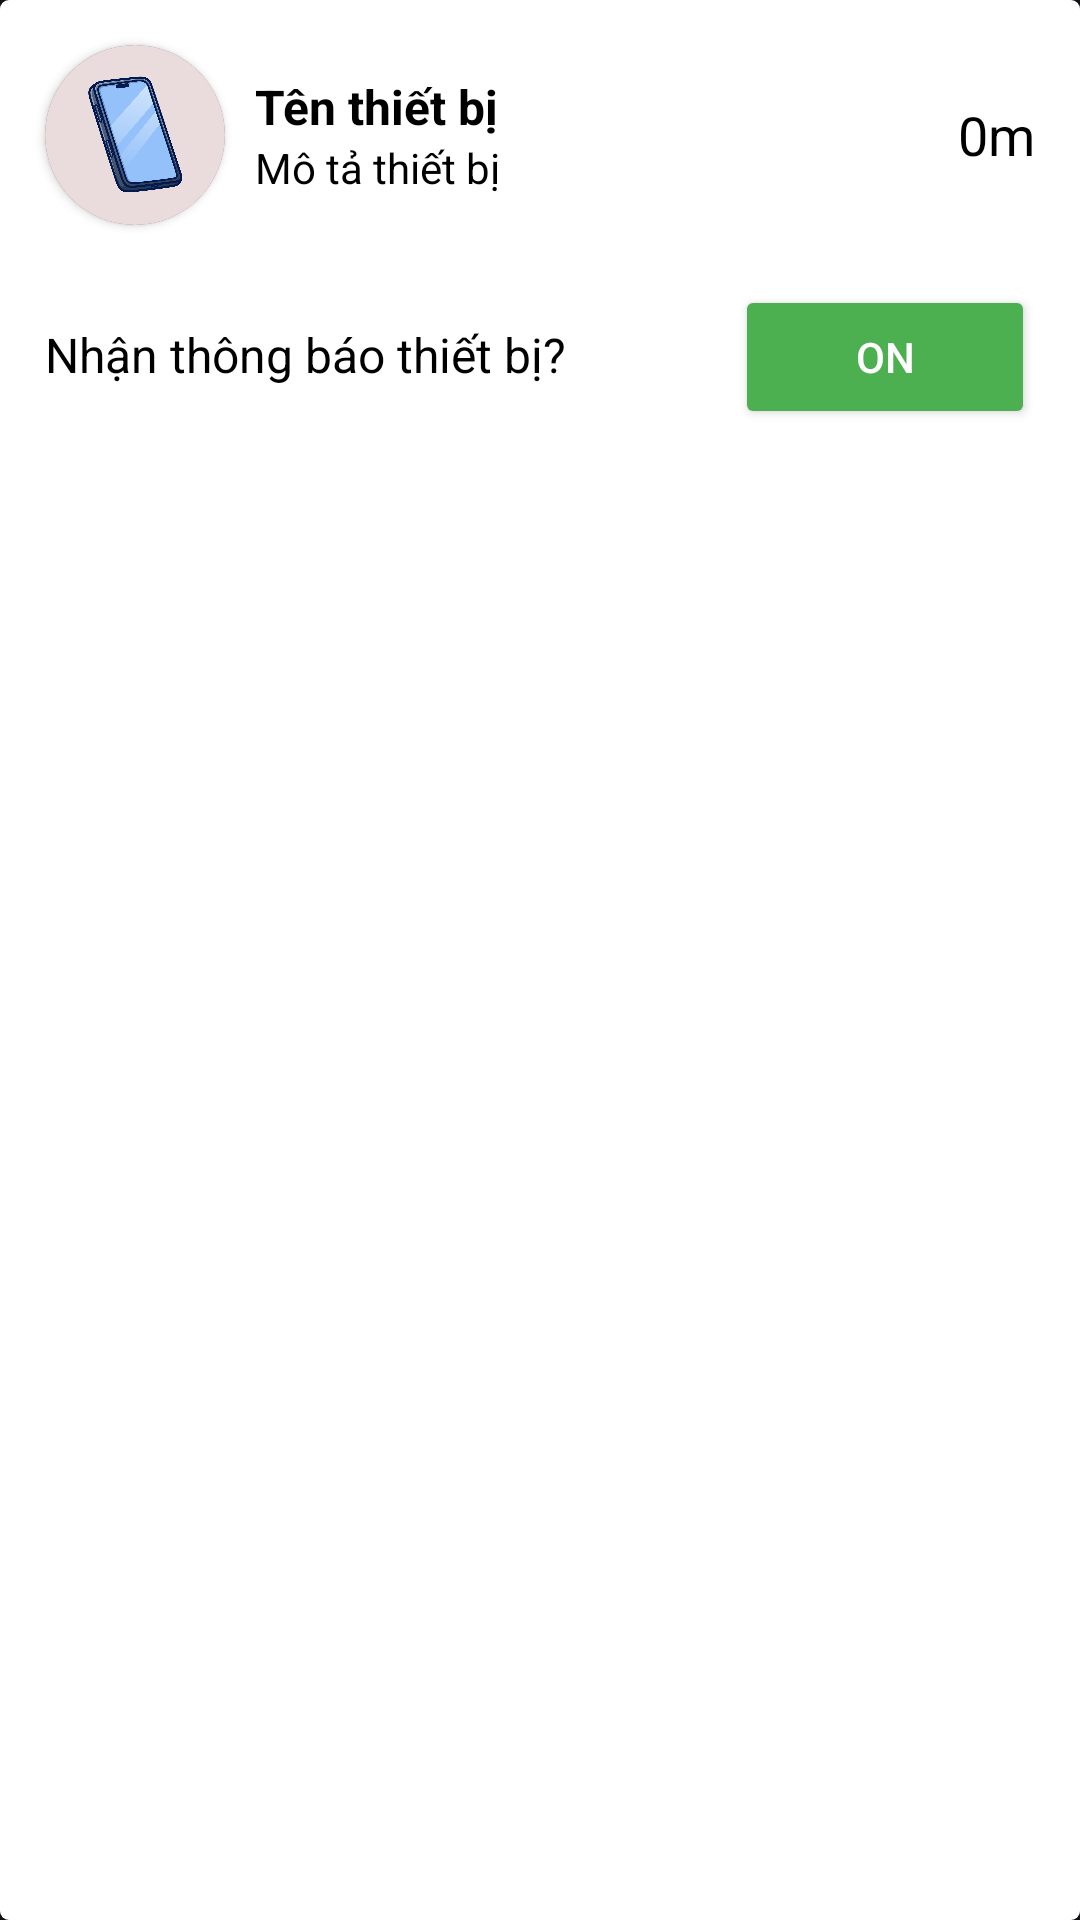

Icons on this 1080px×1920px Android screen, each with its box as region(x1, y1, x2, y2):
phone: region(45, 45, 225, 225)
